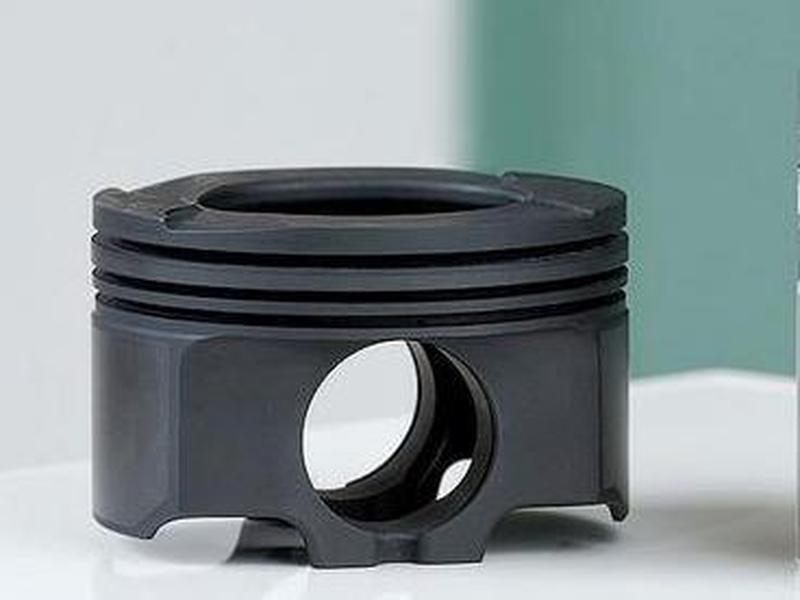piston: (72, 144, 651, 588)
